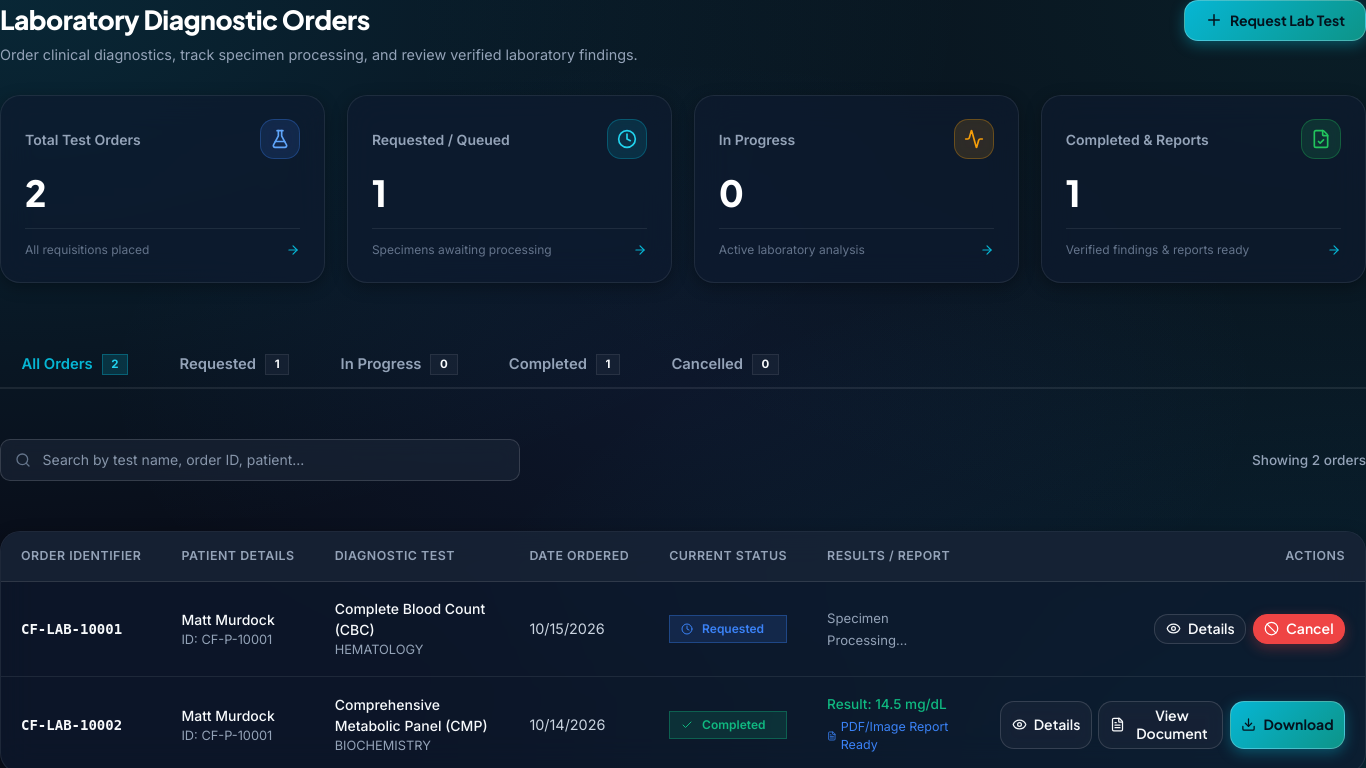
Test: CareFlow HMS — Lab Tests Feature Tests › 2. Doctor Dashboard — Lab Tests Page › renders orders, metrics, and handles Create Request modal
Expected: the text "CF-LAB-10001" is shown, x1=21 y1=621 x2=122 y2=637
Expected: the text "Complete Blood Count (CBC)" is shown, x1=335 y1=598 x2=489 y2=640
# Open Request Lab Test Modal
Click the button "Request Lab Test": (1275, 20) x1=1184 y1=0 x2=1365 y2=41
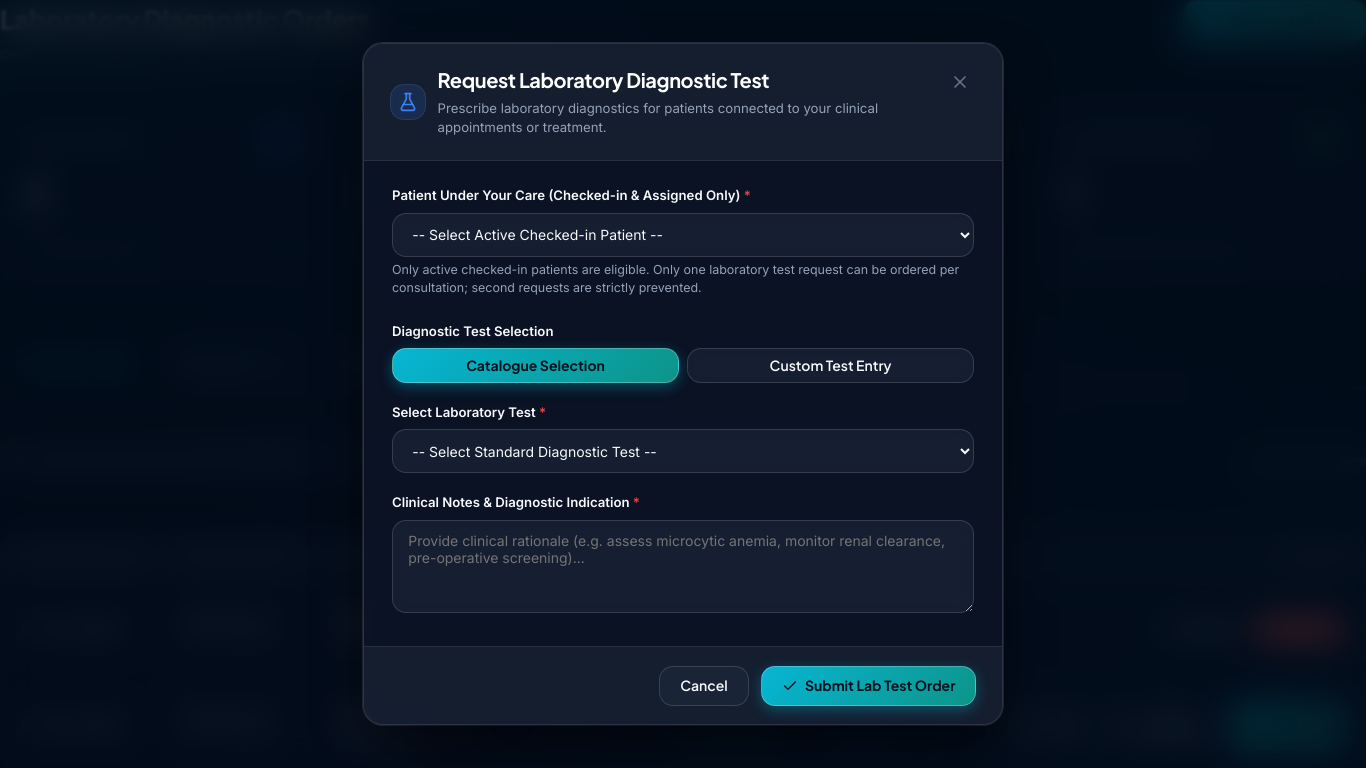
Expected: the heading "Request Laboratory Diagnostic Test" is shown, x1=438 y1=67 x2=769 y2=92
Expected: the text "Patient Under Your Care (Checked-in & Assigned Only) *" is shown, x1=392 y1=187 x2=751 y2=203
